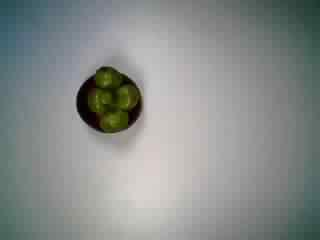mangosteen: (68, 60, 145, 143)
